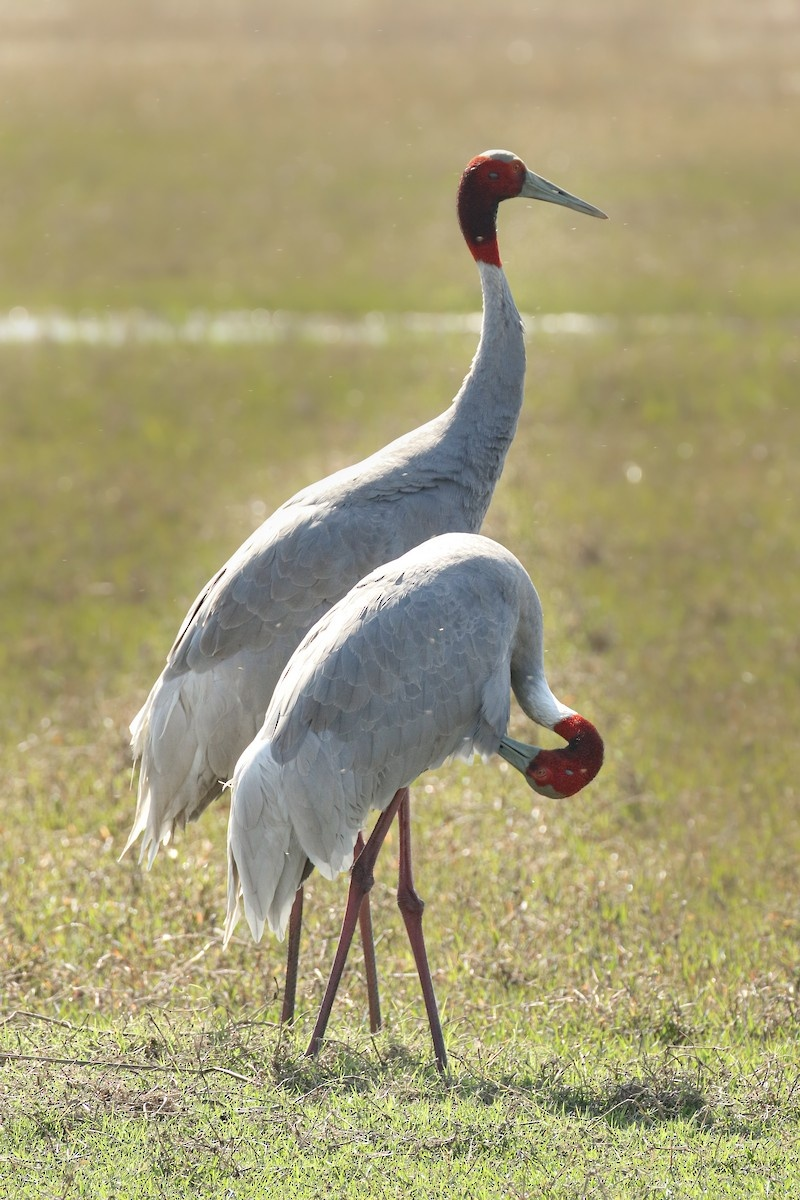crane: (163, 135, 619, 605), (230, 526, 618, 1071)
